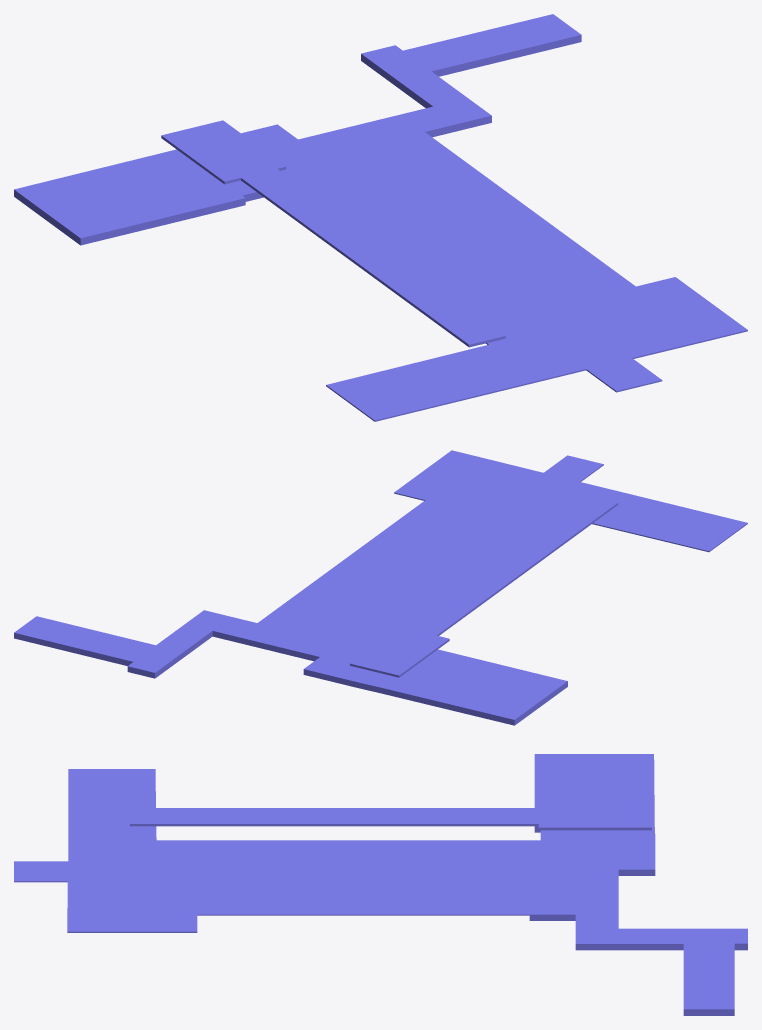
File: Aula_Katto_V.1.0.fbx
The picture shows the model from 3 angles, top to bottom: view 1: azimuth 30°, elevation 25°; view 2: azimuth 150°, elevation 25°; view 3: azimuth 270°, elevation 25°; orthographic projection. The views are drawn at different scales.
Visible parts, largest first — view 1: Katto_alakerta1, Katto_yläkerta; view 2: Katto_alakerta1, Katto_yläkerta; view 3: Katto_alakerta1, Katto_yläkerta.
Part boxes in pixels (bbox=[...]): Katto_alakerta1: bbox=[14, 14, 747, 421]; Katto_yläkerta: bbox=[161, 120, 505, 347]; Katto_alakerta1: bbox=[14, 450, 747, 725]; Katto_yläkerta: bbox=[350, 495, 618, 677]; Katto_alakerta1: bbox=[14, 754, 747, 1015]; Katto_yläkerta: bbox=[130, 800, 651, 830].
Size of the model in its own units: 44.9 by 1.94 by 54.53.
